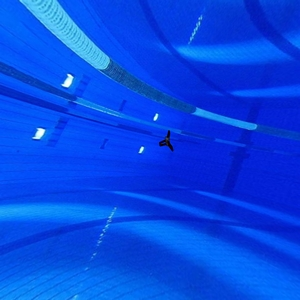submarine: (154, 123, 180, 156)
